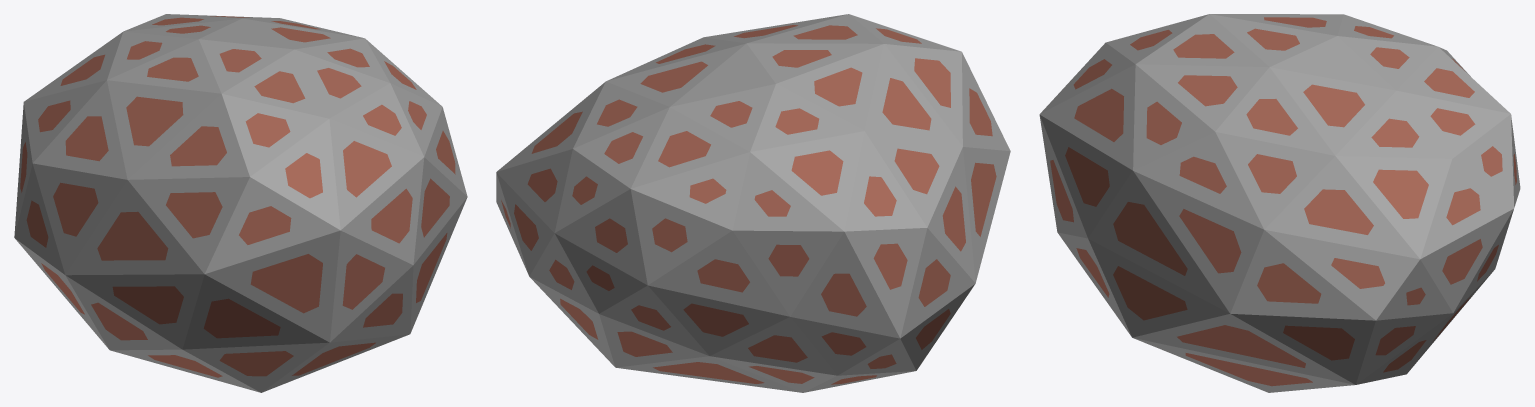
The model's file is caelid_rot.glb.
3 renders of one model, left to right at view 1: azimuth 30°, elevation 25°; view 2: azimuth 150°, elevation 25°; view 3: azimuth 270°, elevation 25°, orthographic. The views are drawn at different scales.
Visible parts, largest first — view 1: Icosphere.346; view 2: Icosphere.346; view 3: Icosphere.346.
Part boxes in pixels (x1=…): Icosphere.346: x1=14, y1=14, x2=467, y2=392; Icosphere.346: x1=496, y1=14, x2=1010, y2=392; Icosphere.346: x1=1039, y1=14, x2=1520, y2=392.
Bounding box in the file's own units: 0.2469 × 0.1774 × 0.2474.
